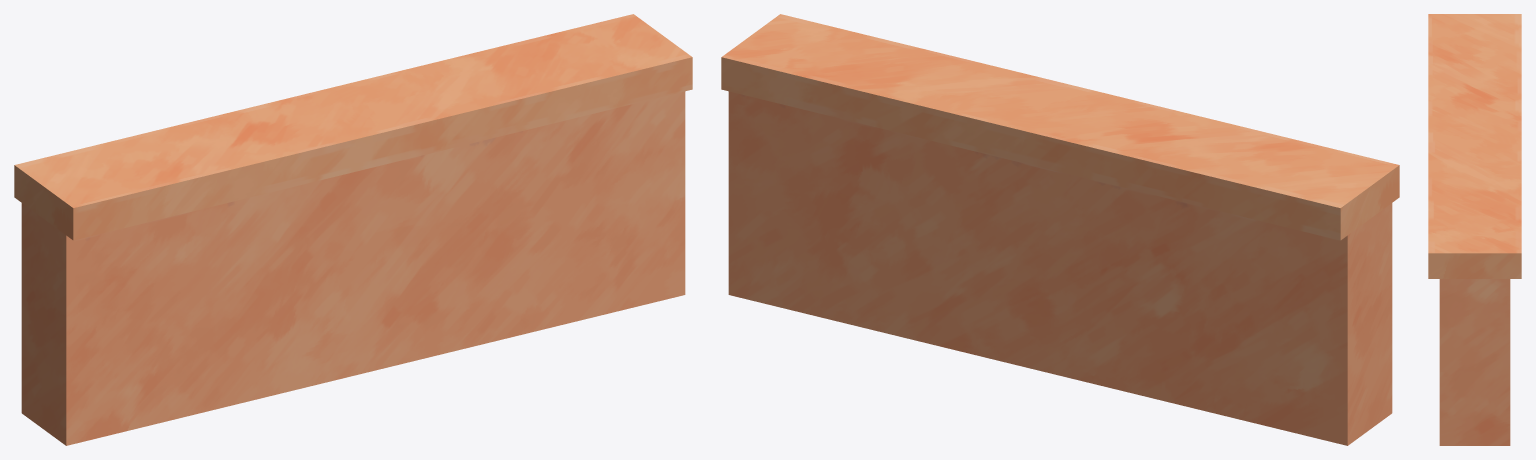
The model's file is parapet_plain.fbx.
3 renders of one model, left to right at view 1: azimuth 30°, elevation 25°; view 2: azimuth 150°, elevation 25°; view 3: azimuth 270°, elevation 25°, orthographic. The views are drawn at different scales.
Parts seen in each view (by area): view 1: parapet_plain; view 2: parapet_plain; view 3: parapet_plain.
Boxes of the visible parts, box(x1,y1,x2,y2) form: parapet_plain: box(14, 14, 692, 445); parapet_plain: box(721, 14, 1399, 445); parapet_plain: box(1428, 14, 1521, 445).
Bounding box in the file's own units: 8 × 3 × 1.32.
1 material, 1 textured.
